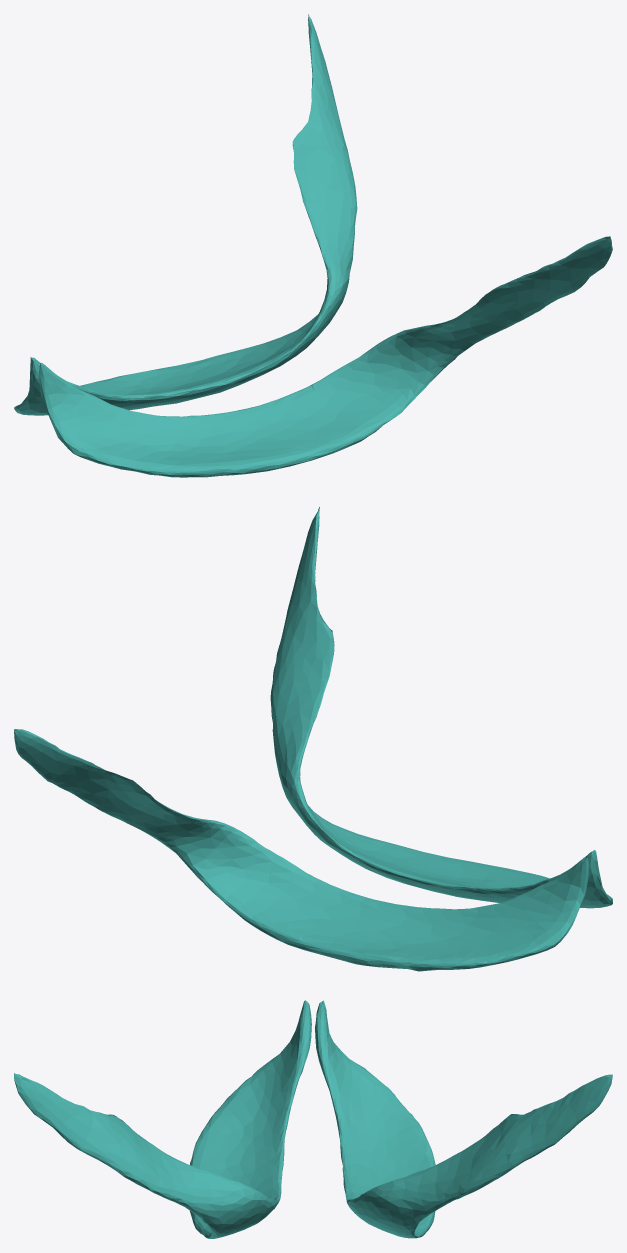
3 views of the same model, one above another, from view 1: azimuth 30°, elevation 25°; view 2: azimuth 150°, elevation 25°; view 3: azimuth 270°, elevation 25° (orthographic).
Visible parts, largest first — view 1: 442.obj; view 2: 442.obj; view 3: 442.obj.
Boxes of the visible parts, bbox=[...] form: 442.obj: bbox=[14, 14, 612, 477]; 442.obj: bbox=[14, 507, 612, 971]; 442.obj: bbox=[14, 1000, 612, 1238].
Bounding box in the file's own units: 4063 × 2180 × 4961.
